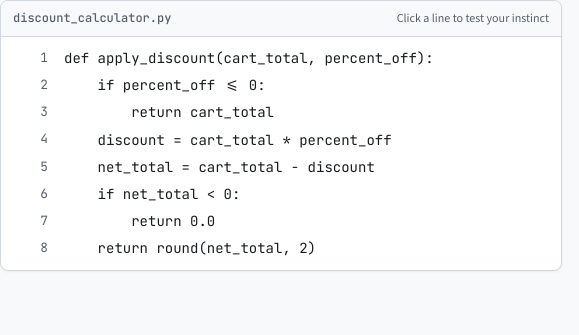
Scenario: Bug Hunt Arena: Visual Identity & Landing/Auth Flows › HeroBugSnippet (Click-the-Bug Interaction) › explains normal behavior without squiggle when clicking a non-buggy line
Step 1. Click the button with aria-label "Line 2: if percent_off <= 0:" → (153, 85), box x1=40 y1=76 x2=266 y2=94
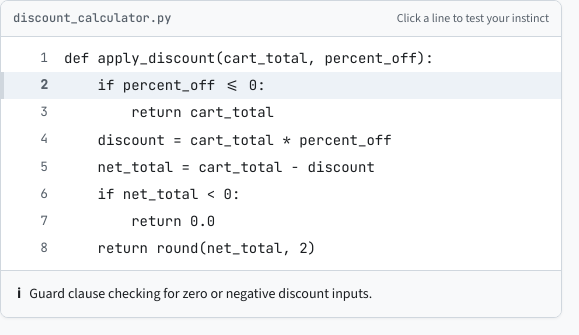
Expected: the text "Guard clause checking for zero or negative discount inputs." is shown, x1=29 y1=283 x2=372 y2=305
